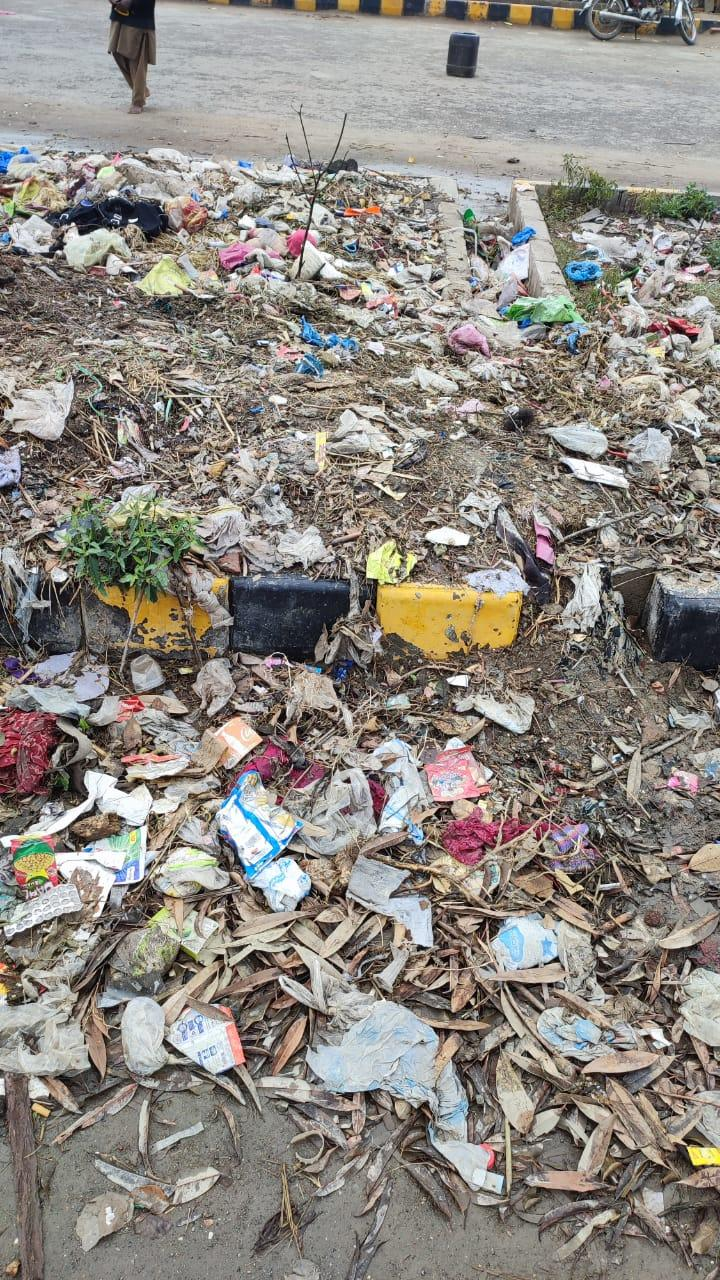garbage: (0, 140, 720, 1203)
